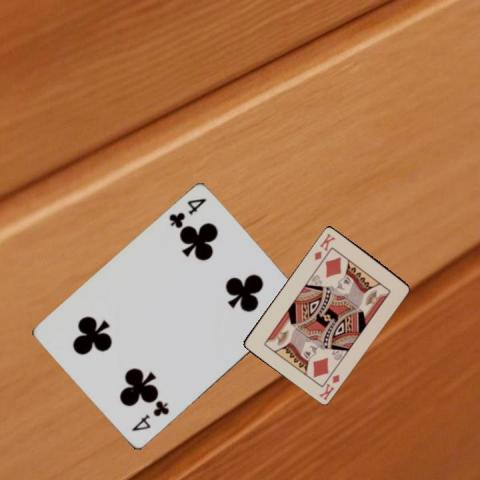4c: (166, 195, 208, 231), (128, 398, 170, 433)
Kd: (311, 230, 337, 261), (316, 371, 341, 401)
